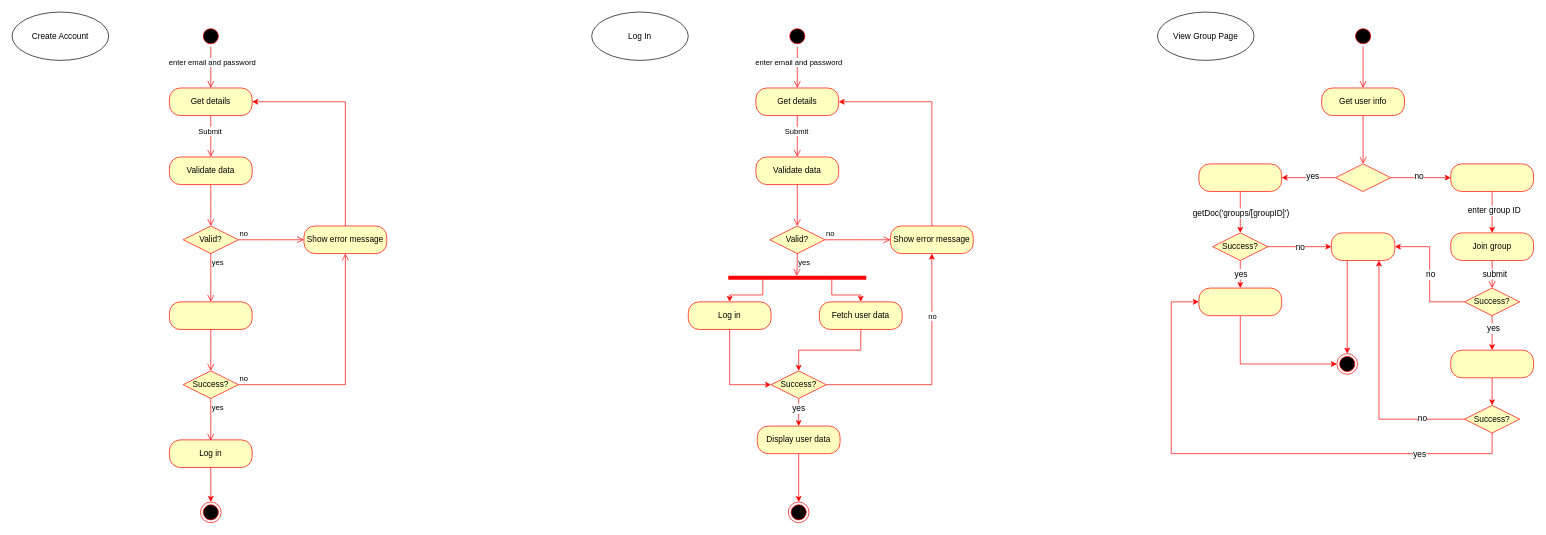
Some shapes in this 1546 by 535 pixel diagram are drawn without their labels. Each missing label, with the box of its shape:
addDoc(): (169, 301, 252, 329)
Display error message: (1331, 232, 1395, 260)
Display group info: (1198, 287, 1282, 316)
Get group info: (1198, 163, 1282, 191)
In a group?: (1335, 163, 1391, 191)
Prompt to join group: (1450, 163, 1534, 191)
Update group info: (1450, 349, 1534, 378)
